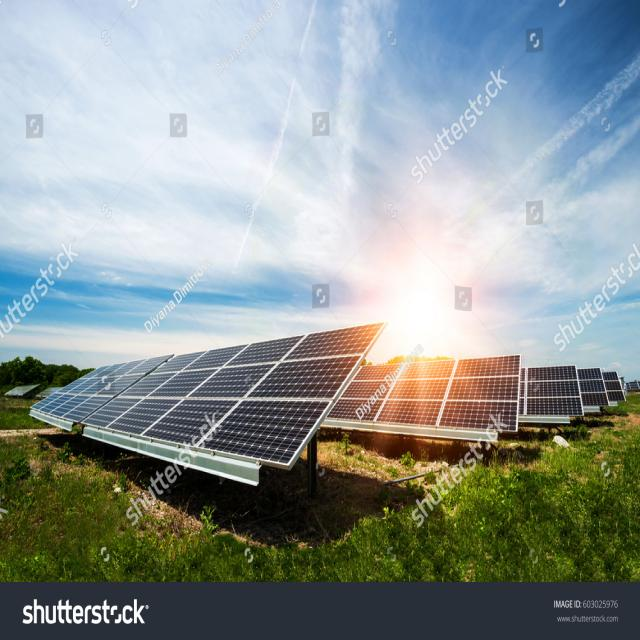clean-solar-panel: (30, 324, 385, 484)
